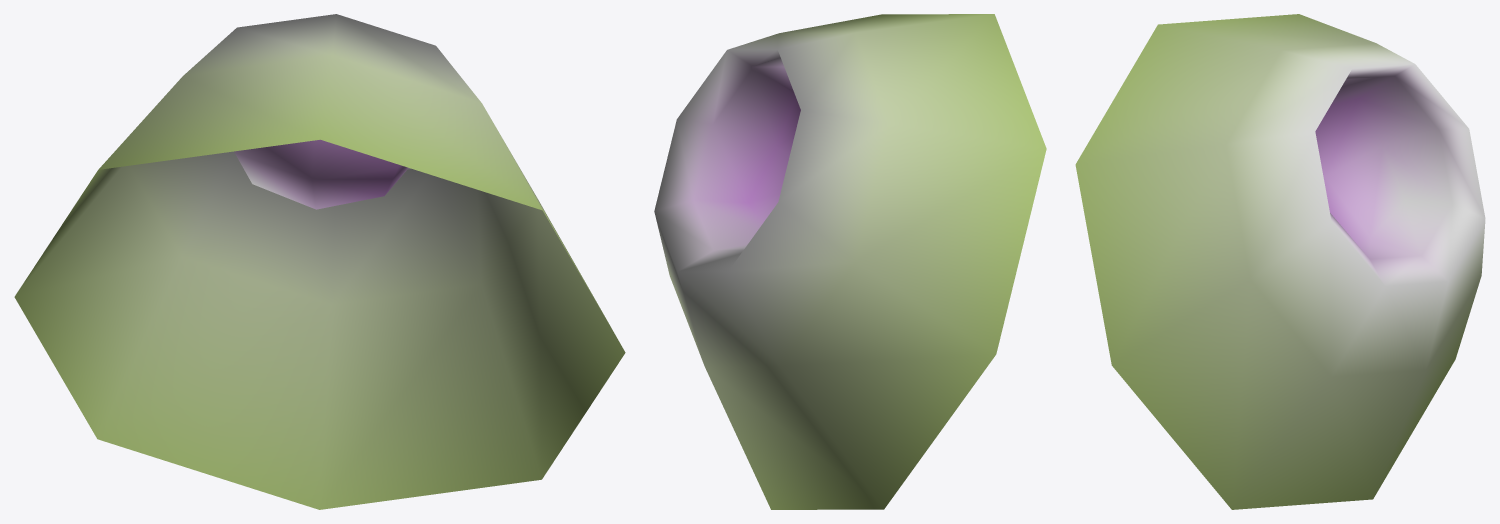
Rendered from Barnacle2.fbx.
3 views of the same model, side by side, from view 1: azimuth 30°, elevation 25°; view 2: azimuth 150°, elevation 25°; view 3: azimuth 270°, elevation 25° (orthographic). The views are drawn at different scales.
Visible parts, largest first — view 1: Barnacle2; view 2: Barnacle2; view 3: Barnacle2.
Boxes of the visible parts, <box> form: Barnacle2: <box>14,14,625,509</box>; Barnacle2: <box>654,14,1046,509</box>; Barnacle2: <box>1075,14,1485,509</box>.
Size of the model in its own units: 113 by 126 by 108.
